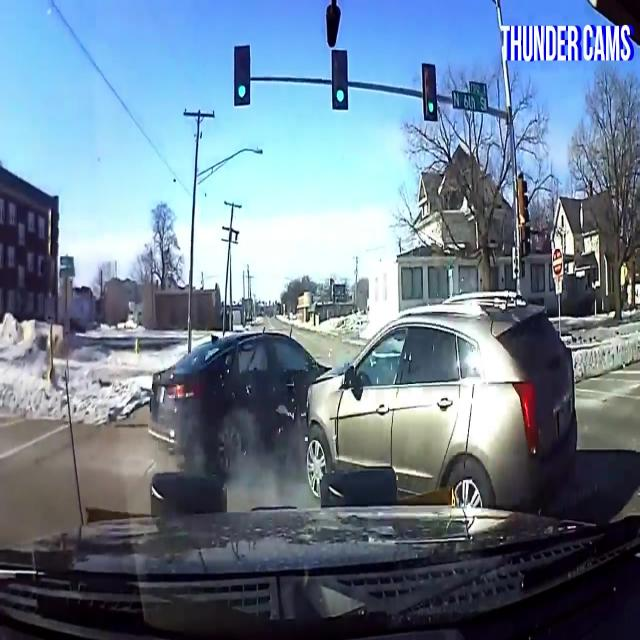accident: (149, 293, 588, 516)
